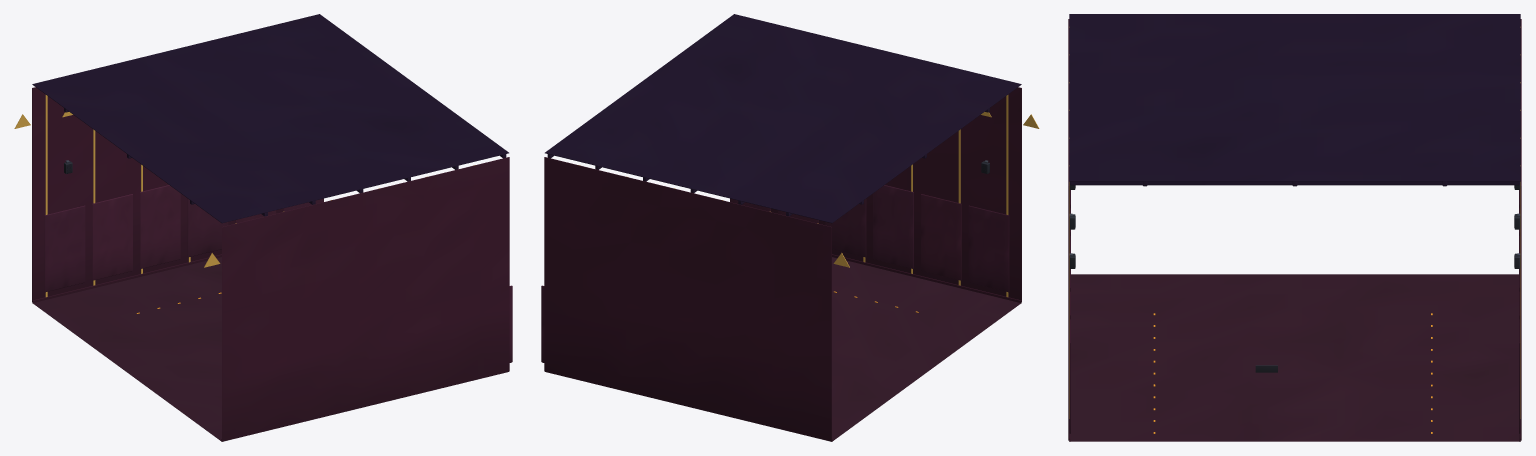
Rendered from SM_Cinema_Hall.fbx.
The picture shows the model from 3 angles, left to right: view 1: azimuth 30°, elevation 25°; view 2: azimuth 150°, elevation 25°; view 3: azimuth 270°, elevation 25°; orthographic projection. The views are drawn at different scales.
Visible parts, largest first — view 1: SM_Cinema_Hall; view 2: SM_Cinema_Hall; view 3: SM_Cinema_Hall.
Part boxes in pixels (x1=…): SM_Cinema_Hall: x1=14, y1=14, x2=512, y2=441; SM_Cinema_Hall: x1=541, y1=14, x2=1039, y2=441; SM_Cinema_Hall: x1=1068, y1=14, x2=1521, y2=441.
Bounding box in the file's own units: 2267 × 1538 × 2418.
